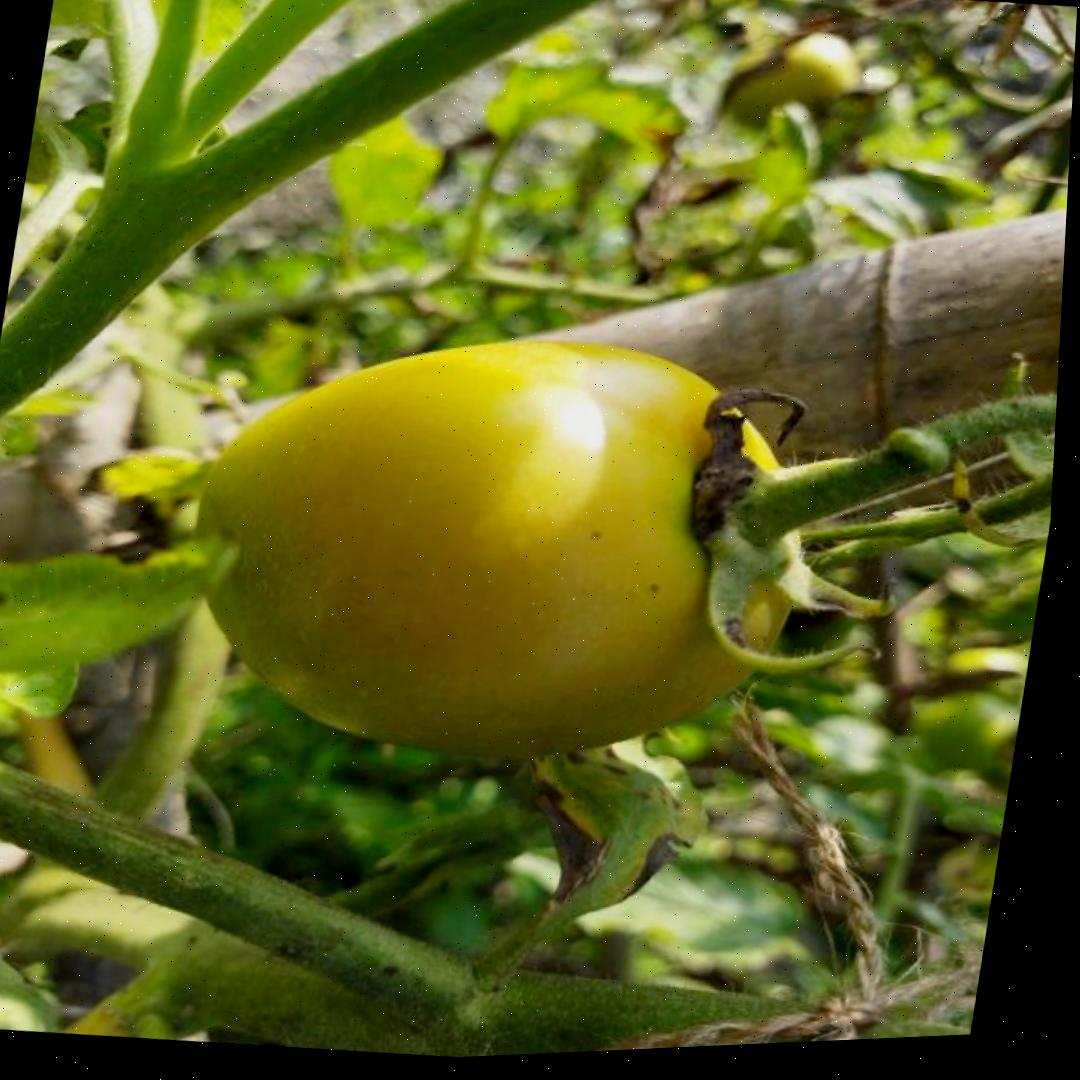setengah_matang: (154, 286, 847, 803)
